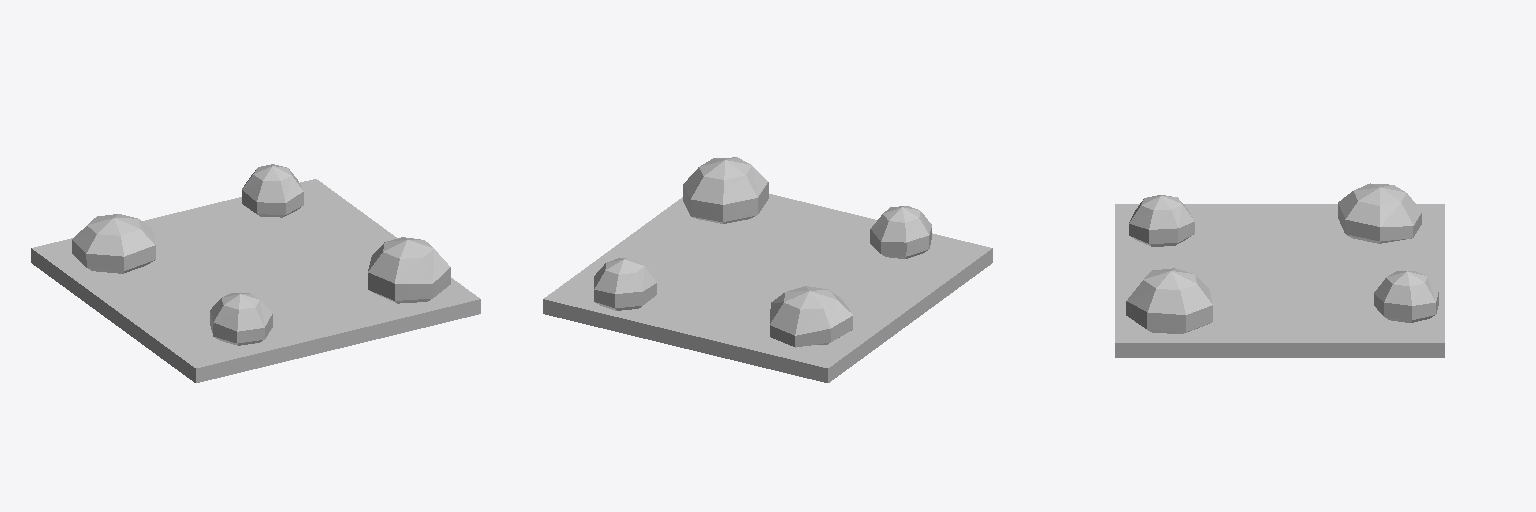
Rendered from park_road_junction_decorated_A.obj.
The picture shows the model from 3 angles: view 1: azimuth 30°, elevation 25°; view 2: azimuth 150°, elevation 25°; view 3: azimuth 270°, elevation 25°; orthographic projection.
Visible parts, largest first — view 1: park_road_junction_decorated_A_Cube.14224; view 2: park_road_junction_decorated_A_Cube.14224; view 3: park_road_junction_decorated_A_Cube.14224.
Boxes of the visible parts, x1,y1,x2,y2 form: park_road_junction_decorated_A_Cube.14224: [31, 164, 480, 382]; park_road_junction_decorated_A_Cube.14224: [543, 157, 992, 382]; park_road_junction_decorated_A_Cube.14224: [1115, 183, 1444, 357].
Size of the model in its own units: 2 by 0.4365 by 2.